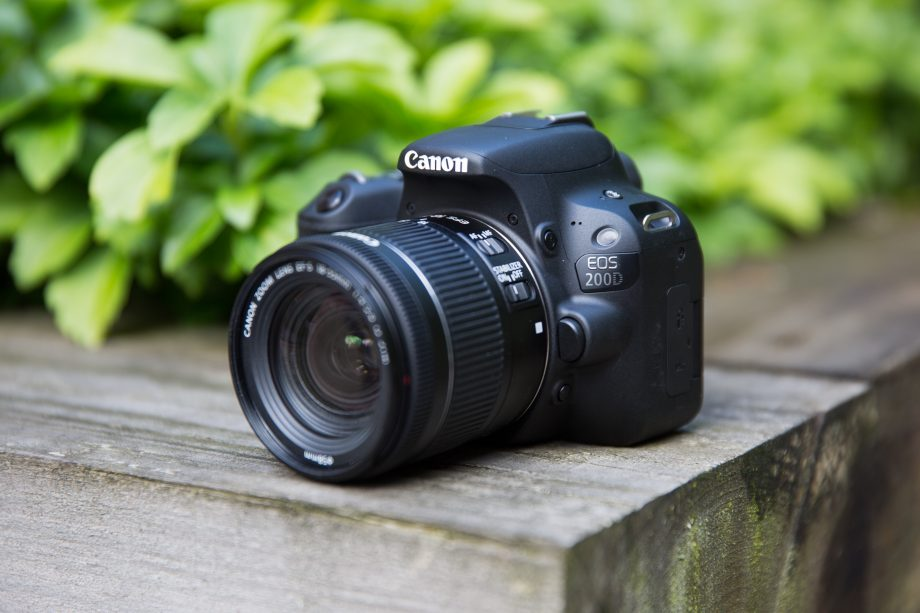camera: (236, 100, 698, 502)
